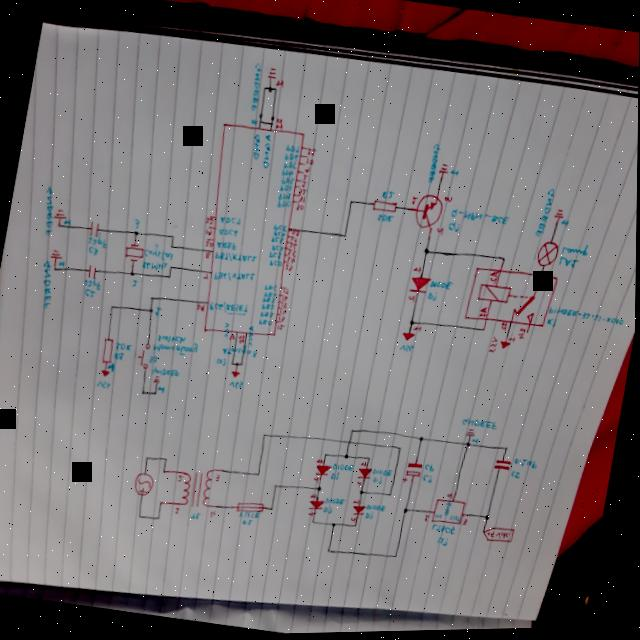capacitor: (403, 462, 425, 488), (494, 459, 514, 476), (89, 221, 102, 241), (87, 265, 98, 280)
crossover: (348, 442, 353, 447)
diode: (409, 276, 434, 298), (357, 468, 374, 484), (352, 505, 369, 521), (309, 500, 327, 514), (316, 465, 334, 479)
ground: (53, 209, 69, 221), (51, 249, 65, 261), (439, 164, 450, 179), (554, 211, 565, 224), (268, 69, 278, 82), (467, 431, 477, 440), (154, 376, 162, 385)
junction: (423, 249, 432, 259), (419, 437, 426, 446), (501, 258, 508, 267), (145, 455, 152, 463), (350, 429, 357, 437), (164, 456, 171, 464), (311, 520, 318, 528), (163, 468, 169, 477), (262, 433, 268, 440), (141, 390, 147, 397), (138, 514, 144, 521), (109, 305, 115, 312), (157, 516, 163, 523), (398, 446, 404, 453), (505, 448, 511, 455), (345, 455, 351, 462), (271, 507, 277, 514), (486, 517, 492, 524), (134, 231, 140, 238), (160, 501, 165, 509), (405, 509, 410, 516), (257, 473, 262, 480), (274, 484, 279, 491), (318, 487, 323, 494), (268, 88, 273, 95), (361, 491, 366, 498), (343, 234, 348, 240), (150, 309, 155, 315), (131, 272, 136, 278), (168, 275, 173, 281), (411, 322, 416, 328), (333, 524, 338, 529), (171, 245, 176, 250), (368, 458, 373, 463), (467, 445, 472, 450), (270, 123, 275, 128), (151, 297, 156, 302), (483, 329, 488, 334), (54, 267, 58, 272), (350, 203, 354, 207), (328, 551, 332, 555), (395, 557, 399, 561), (171, 236, 175, 240), (325, 454, 329, 458), (236, 364, 240, 368), (259, 121, 263, 125), (170, 266, 174, 270), (58, 224, 62, 228), (155, 392, 159, 396), (390, 495, 394, 499), (241, 364, 244, 368), (274, 89, 277, 93), (263, 88, 266, 92), (356, 527, 358, 530), (233, 363, 235, 366)
resistor: (101, 338, 117, 366), (372, 201, 399, 217)
source: (133, 472, 157, 499), (403, 334, 416, 345), (500, 342, 512, 353), (101, 370, 112, 378), (232, 372, 242, 379)
switch: (137, 343, 153, 372)
terminal: (484, 527, 516, 548)
text: (548, 308, 626, 331), (449, 208, 512, 233), (36, 259, 59, 312), (535, 190, 557, 242), (39, 186, 61, 238), (153, 337, 201, 360), (247, 64, 265, 114), (214, 268, 256, 288), (209, 300, 250, 320), (215, 251, 259, 268), (223, 343, 259, 361), (461, 417, 499, 434), (427, 145, 442, 188), (144, 243, 176, 263), (561, 243, 590, 263), (260, 135, 275, 171), (158, 333, 191, 346), (88, 231, 110, 250), (514, 458, 540, 474), (152, 366, 181, 380), (142, 259, 169, 274), (249, 136, 263, 163), (559, 258, 581, 274), (430, 280, 455, 294), (488, 531, 513, 544), (432, 525, 458, 537), (84, 276, 103, 291), (333, 463, 356, 475), (240, 510, 263, 522), (219, 217, 242, 228), (218, 228, 239, 240), (217, 241, 238, 253), (367, 504, 389, 515), (96, 380, 114, 393), (326, 498, 347, 509), (373, 469, 394, 480), (247, 326, 256, 348), (489, 338, 500, 356), (448, 222, 462, 236), (223, 323, 232, 342), (378, 216, 395, 226), (116, 343, 133, 353), (230, 380, 245, 391), (400, 344, 415, 355), (277, 201, 293, 211), (478, 308, 490, 321), (190, 511, 203, 523), (84, 288, 98, 299), (274, 225, 289, 235), (286, 145, 301, 155), (285, 154, 300, 164), (490, 272, 500, 287), (438, 538, 450, 550), (445, 503, 454, 519), (274, 120, 285, 133), (279, 193, 292, 204), (282, 177, 295, 188), (282, 169, 295, 180), (269, 252, 283, 262), (284, 162, 298, 172), (259, 320, 274, 329), (265, 285, 280, 294), (280, 185, 293, 195), (383, 193, 396, 203), (518, 330, 528, 343), (270, 260, 284, 269), (262, 304, 276, 313), (196, 304, 207, 315), (547, 319, 558, 330), (428, 293, 439, 304), (261, 312, 276, 320), (272, 245, 285, 254), (272, 237, 285, 246), (274, 230, 287, 239), (331, 472, 341, 483), (374, 477, 385, 487), (424, 476, 435, 486), (217, 358, 228, 368), (88, 246, 99, 256), (263, 298, 276, 306), (265, 292, 278, 300), (307, 149, 317, 159), (154, 307, 163, 318), (512, 473, 523, 482), (425, 465, 436, 474), (149, 357, 160, 366), (115, 353, 126, 362), (450, 517, 462, 525), (108, 362, 116, 374), (367, 512, 376, 522), (324, 508, 334, 517), (288, 250, 298, 259), (298, 190, 308, 199), (206, 218, 216, 227), (444, 197, 454, 206), (450, 171, 460, 180), (134, 219, 142, 230), (244, 520, 255, 528), (286, 265, 295, 274), (287, 257, 296, 266), (292, 230, 301, 239), (306, 159, 315, 168), (276, 81, 285, 90), (413, 268, 422, 277), (561, 222, 570, 231), (411, 198, 419, 208), (296, 205, 306, 213), (239, 335, 246, 346), (502, 324, 509, 335), (408, 297, 416, 306), (250, 120, 259, 128), (158, 387, 166, 396), (289, 244, 298, 252), (278, 325, 287, 333), (64, 219, 73, 227), (437, 229, 445, 238), (210, 511, 217, 521), (175, 507, 182, 517), (280, 309, 288, 317), (509, 338, 517, 346), (133, 280, 140, 289), (205, 253, 212, 262), (178, 476, 185, 485), (425, 516, 432, 525), (205, 242, 214, 249), (414, 328, 423, 335), (216, 474, 222, 484), (448, 494, 455, 502), (317, 460, 325, 467), (314, 478, 321, 486), (361, 462, 368, 470), (309, 512, 316, 520), (291, 237, 299, 244), (206, 229, 213, 237), (281, 303, 289, 310), (283, 289, 290, 297), (59, 260, 66, 268), (463, 520, 469, 529), (305, 167, 311, 176), (203, 274, 210, 281), (351, 518, 358, 525), (355, 500, 362, 507), (312, 494, 319, 501), (437, 515, 444, 522), (473, 440, 480, 447), (230, 335, 237, 342), (299, 198, 306, 205), (279, 317, 286, 324), (282, 297, 289, 304), (302, 183, 307, 191), (358, 483, 363, 490), (303, 176, 308, 183)
transformer: (175, 467, 219, 516)
transistor: (413, 194, 445, 235)
